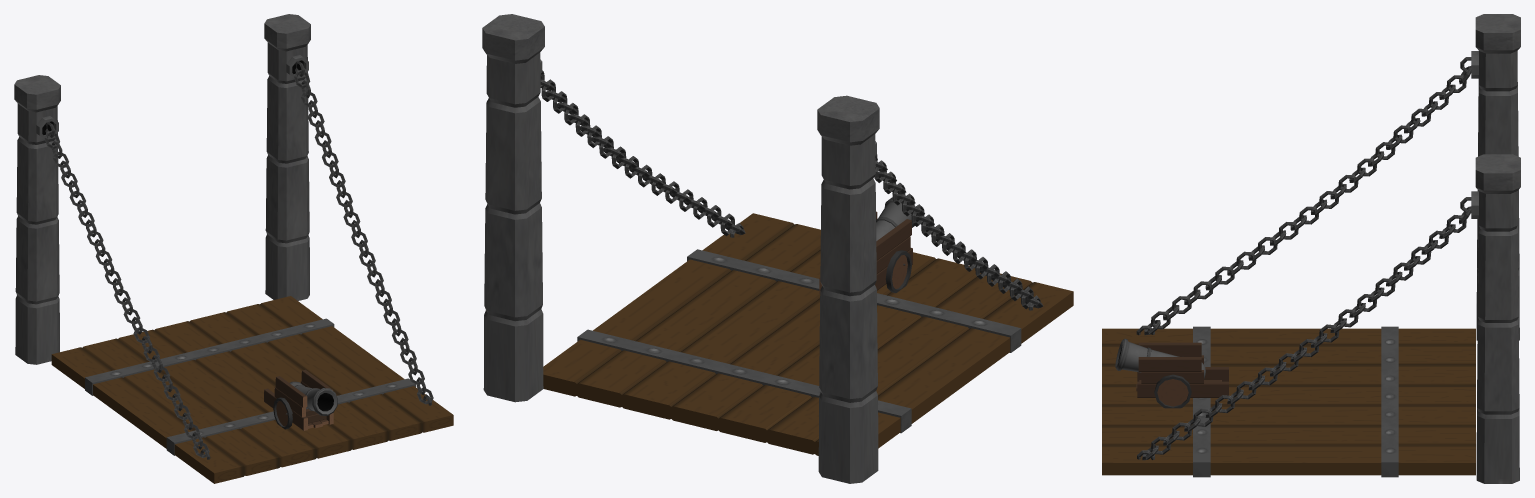
Rendered from Plataforma Puente Cañon Med.fbx.
3 views of the same model, side by side, from view 1: azimuth 30°, elevation 25°; view 2: azimuth 150°, elevation 25°; view 3: azimuth 270°, elevation 25° (orthographic). The views are drawn at different scales.
Visible parts, largest first — view 1: Puente.004, Torre.004, Torre2.004, Torus.327, Torus.292, Metal Puente.004, Metal Puente 2.004, Cylinder.015, Cylinder.017, Cube.111; view 2: Puente.004, Torre.004, Torre2.004, Torus.327, Metal Puente 2.004, Metal Puente.004, Torus.292, Cylinder.017, Cylinder.015, Cube.111; view 3: Puente.004, Torre2.004, Torre.004, Torus.292, Torus.327, Metal Puente.004, Metal Puente 2.004, Cylinder.016, Cube.108, Cylinder.015, Cube.110, Cube.111 (+1 smaller).
Boxes of the visible parts, left/top/right/bottom form: Puente.004: left=51, top=296, right=453, bottom=483; Torre.004: left=14, top=75, right=60, bottom=364; Torre2.004: left=264, top=14, right=310, bottom=300; Torus.327: left=294, top=61, right=433, bottom=405; Torus.292: left=44, top=122, right=210, bottom=459; Metal Puente.004: left=85, top=318, right=334, bottom=395; Metal Puente 2.004: left=166, top=378, right=415, bottom=455; Cylinder.015: left=289, top=381, right=337, bottom=415; Cylinder.017: left=273, top=397, right=292, bottom=429; Cube.111: left=275, top=376, right=307, bottom=407; Puente.004: left=543, top=213, right=1073, bottom=455; Torre.004: left=817, top=95, right=879, bottom=483; Torre2.004: left=482, top=14, right=544, bottom=402; Torus.327: left=540, top=70, right=745, bottom=237; Metal Puente 2.004: left=687, top=249, right=1021, bottom=352; Metal Puente.004: left=577, top=329, right=911, bottom=433; Torus.292: left=874, top=154, right=1043, bottom=310; Cylinder.017: left=885, top=250, right=911, bottom=293; Cylinder.015: left=876, top=197, right=914, bottom=240; Cube.111: left=876, top=219, right=911, bottom=260; Puente.004: left=1102, top=328, right=1475, bottom=475; Torre2.004: left=1475, top=154, right=1520, bottom=483; Torre.004: left=1475, top=14, right=1520, bottom=340; Torus.292: left=1136, top=57, right=1471, bottom=335; Torus.327: left=1137, top=197, right=1471, bottom=460; Metal Puente.004: left=1381, top=326, right=1398, bottom=477; Metal Puente 2.004: left=1193, top=326, right=1210, bottom=477; Cylinder.016: left=1154, top=374, right=1191, bottom=408; Cube.108: left=1138, top=357, right=1201, bottom=371; Cylinder.015: left=1115, top=338, right=1205, bottom=378; Cube.110: left=1137, top=381, right=1228, bottom=397; Cube.111: left=1138, top=342, right=1201, bottom=356.
Size of the model in its own units: 1006 by 930 by 1117.
